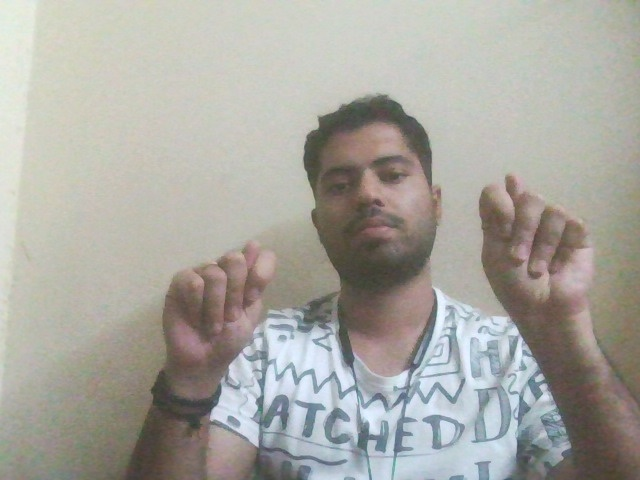X: (467, 169, 608, 331)
